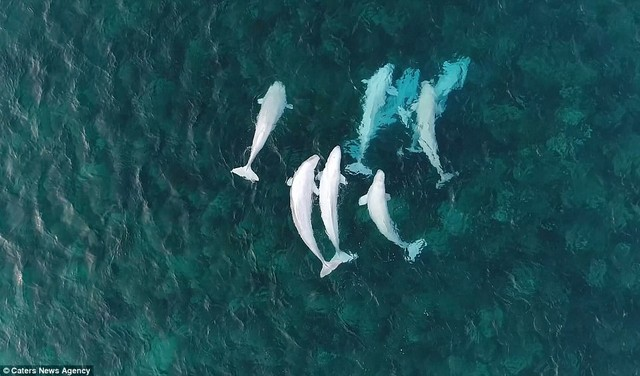whale: (280, 151, 349, 281), (224, 77, 295, 185), (359, 165, 428, 266), (403, 77, 462, 194), (312, 143, 361, 269), (344, 57, 392, 181)
